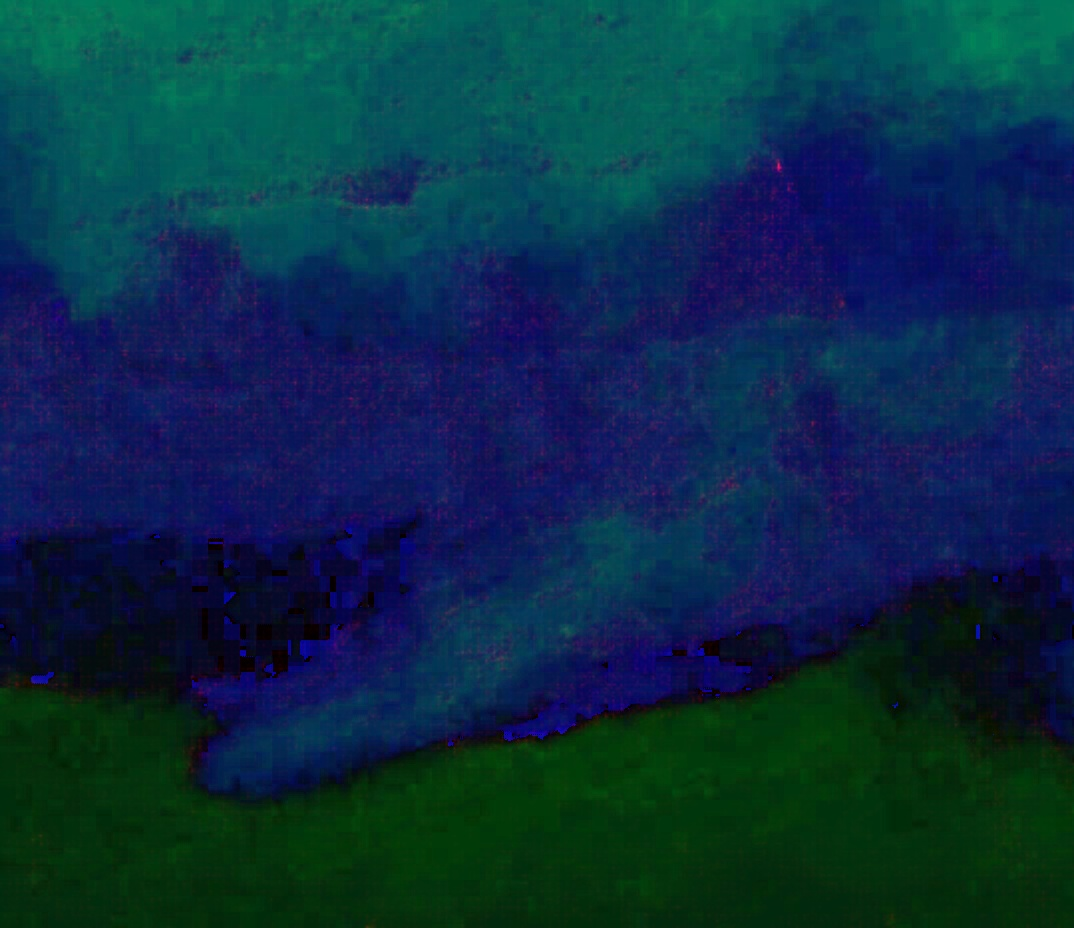rip_current: (382, 347, 1047, 678)
